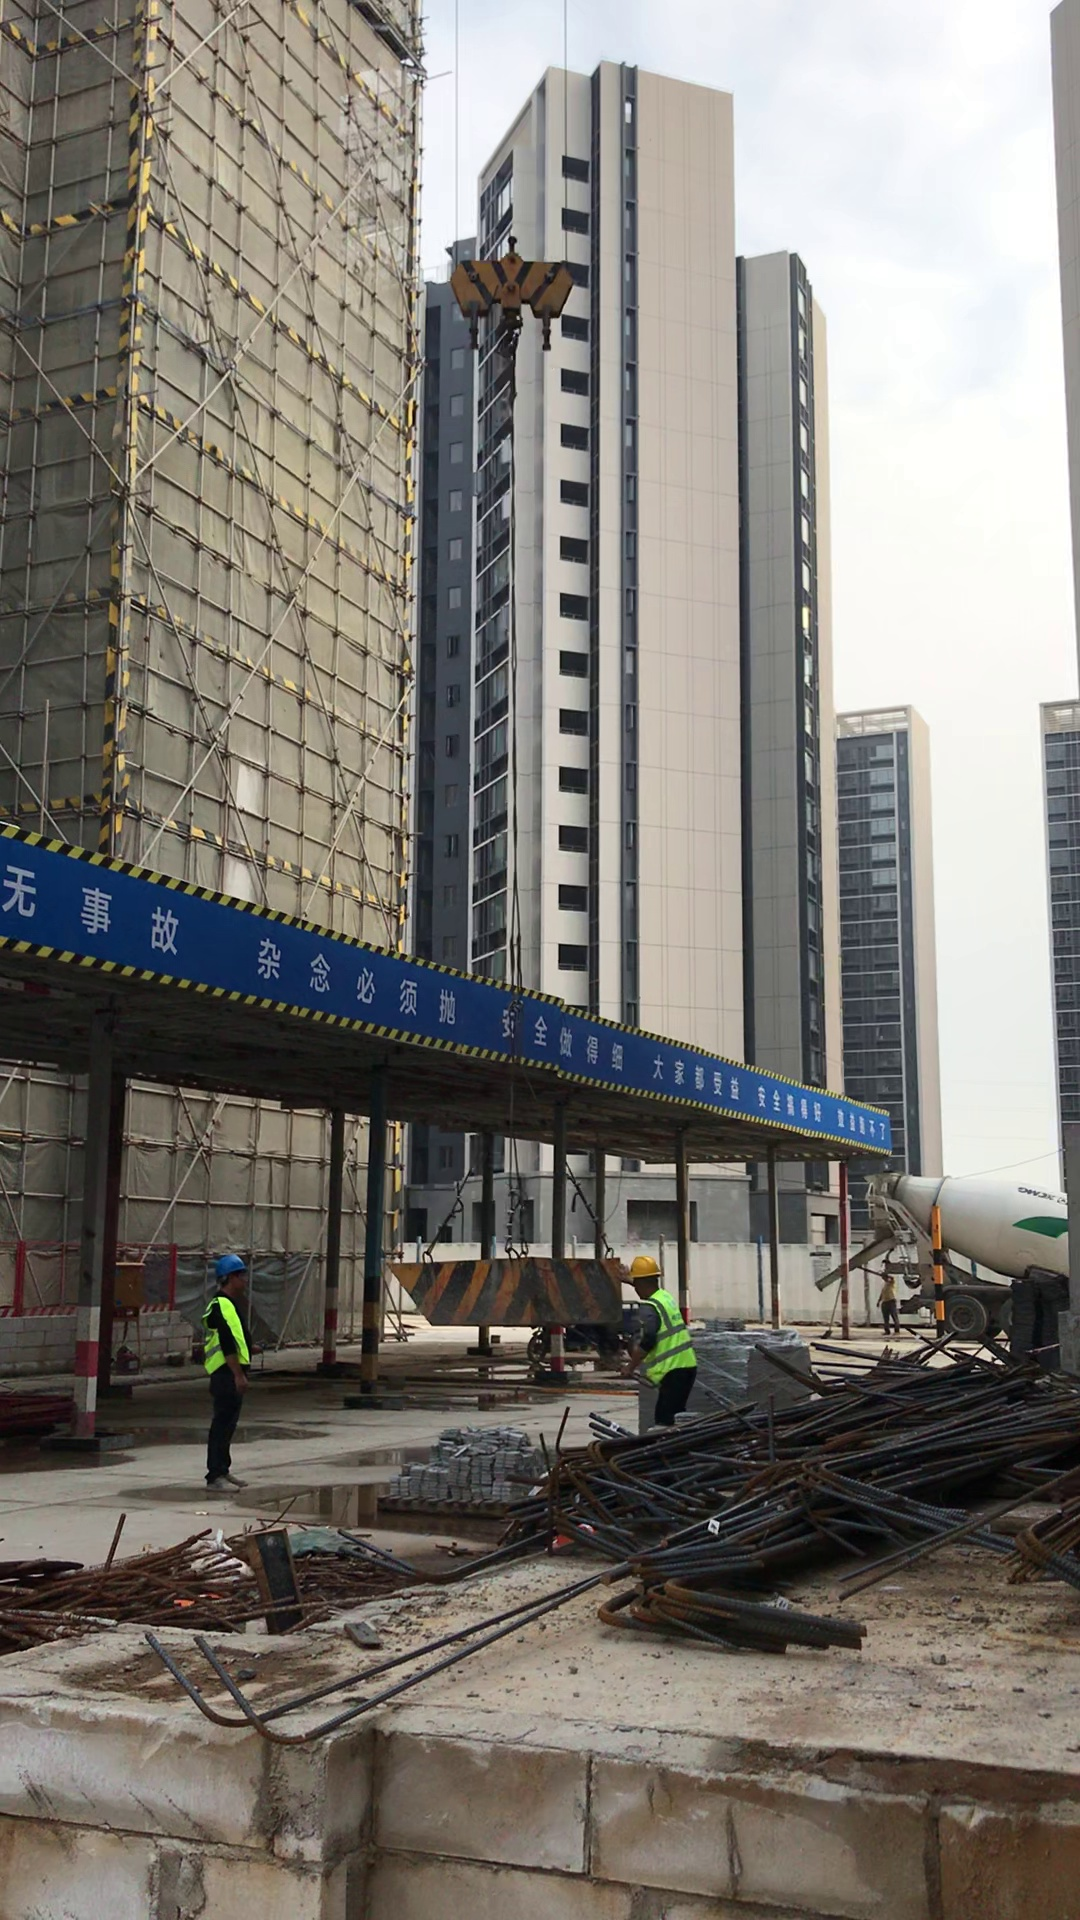ebox: (109, 1259, 148, 1361)
fence: (1, 1243, 172, 1317)
helmet: (627, 1255, 666, 1277), (213, 1251, 250, 1274)
hook: (453, 226, 584, 332)
hopper: (390, 1251, 631, 1330)
person: (182, 1231, 296, 1498), (613, 1250, 706, 1429)
rebar: (656, 1347, 1074, 1613)
slogan: (14, 842, 893, 1159)
vest: (632, 1294, 698, 1381), (198, 1295, 252, 1367)
